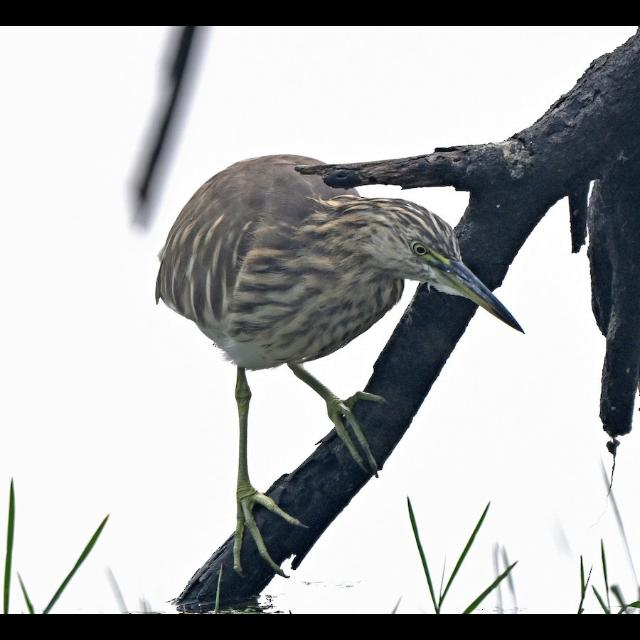heron: (143, 146, 535, 586)
